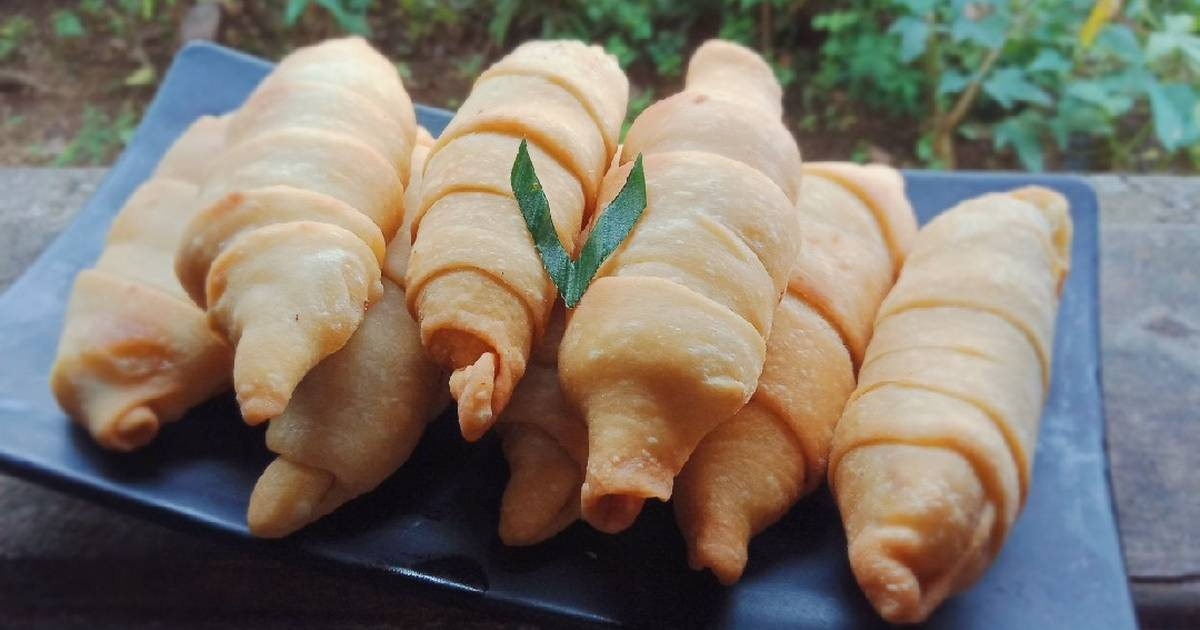pisang_molen: (547, 37, 802, 522), (824, 182, 1072, 626), (174, 34, 418, 418), (415, 25, 630, 437)
